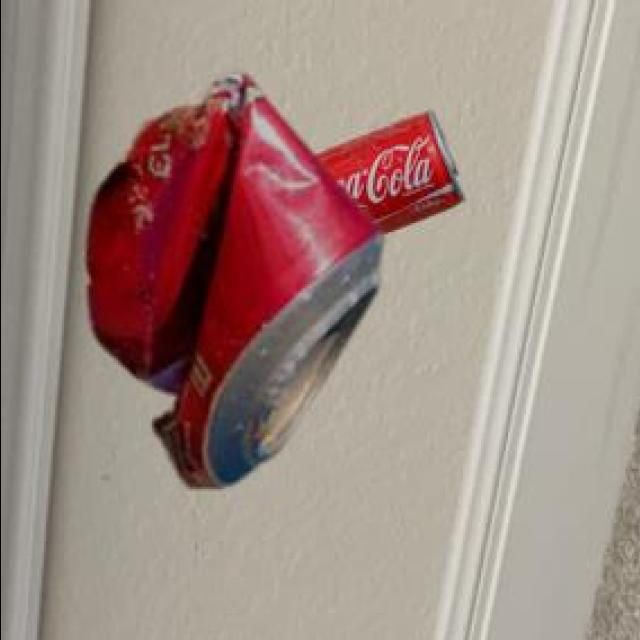logam: (82, 78, 377, 490), (310, 114, 461, 238)
